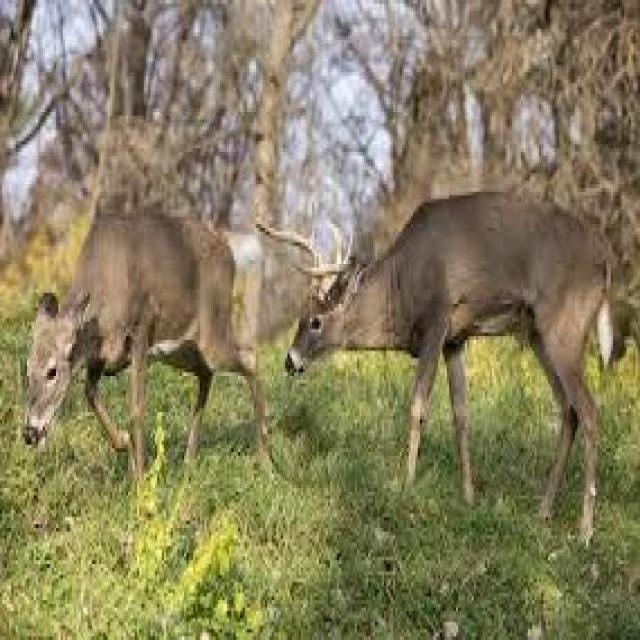deer: (243, 184, 612, 543), (17, 202, 260, 498)
